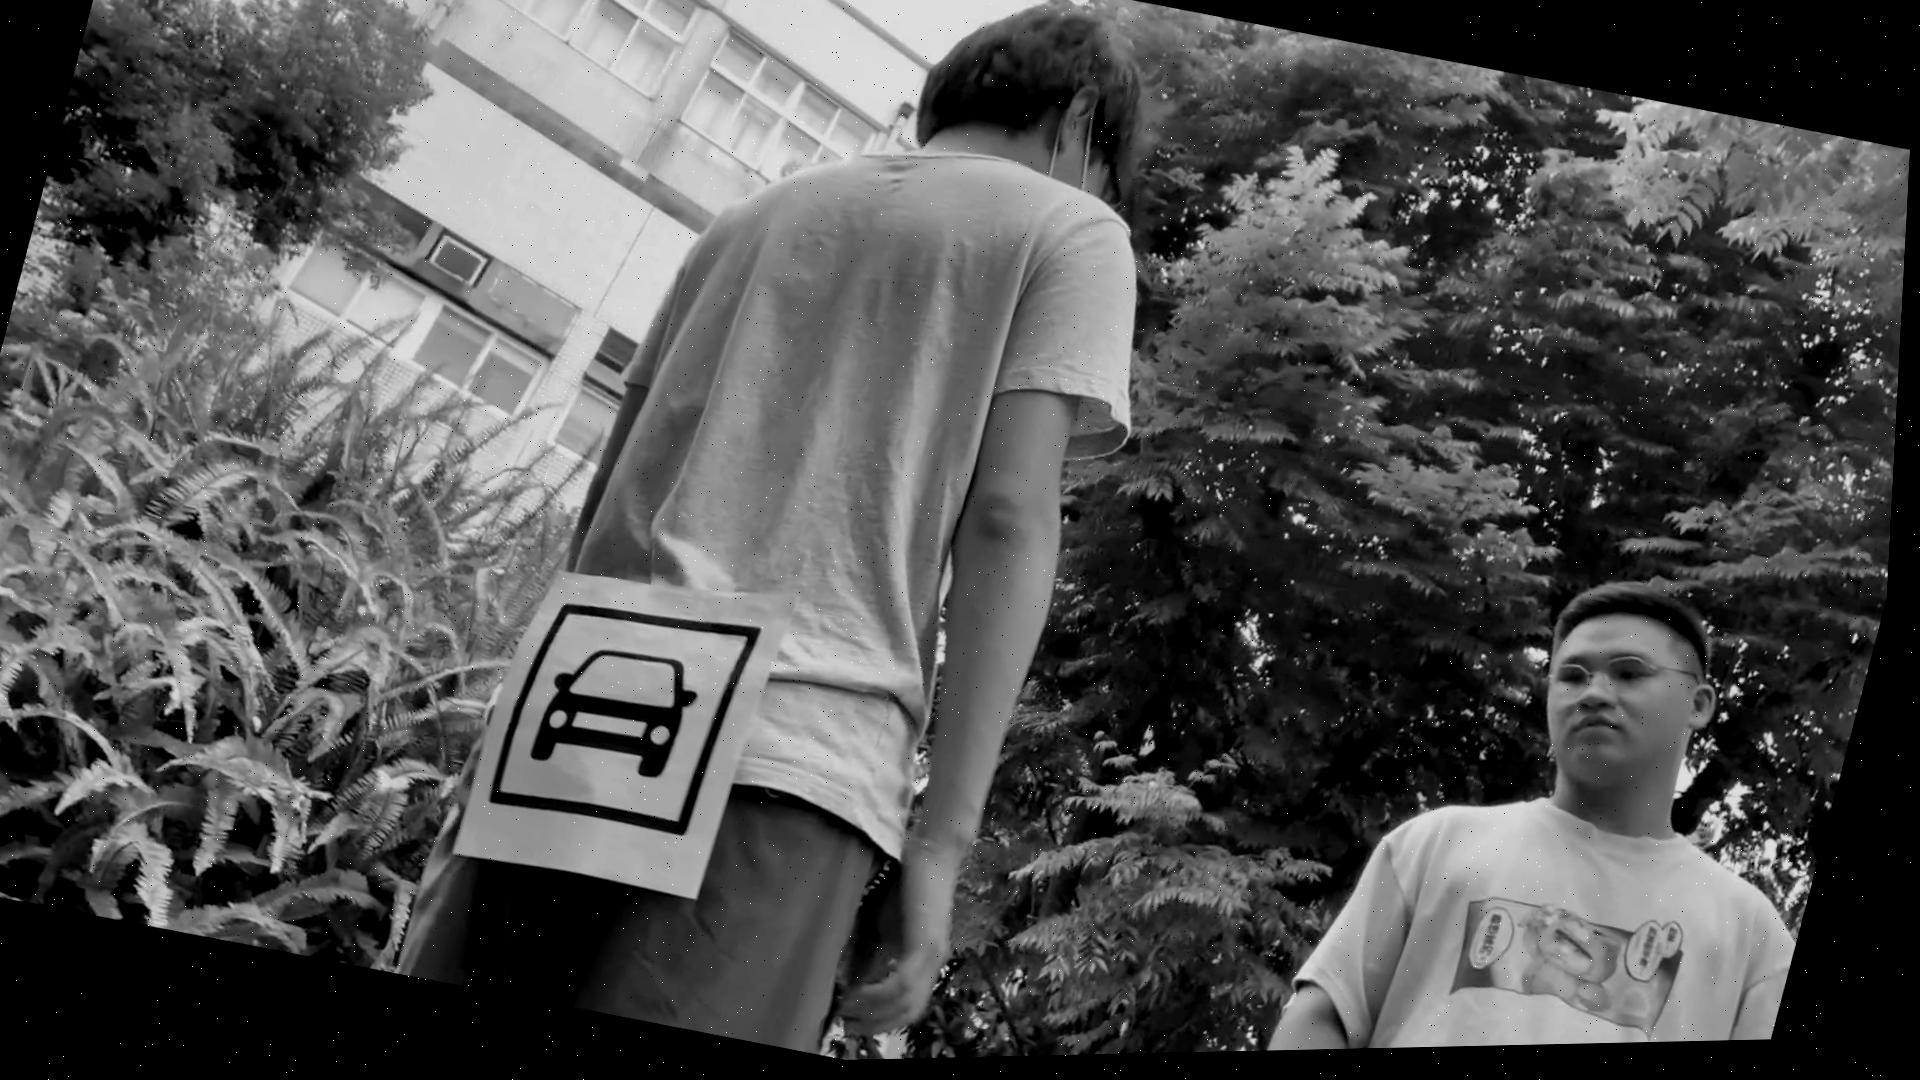car_img: (492, 582, 773, 852)
